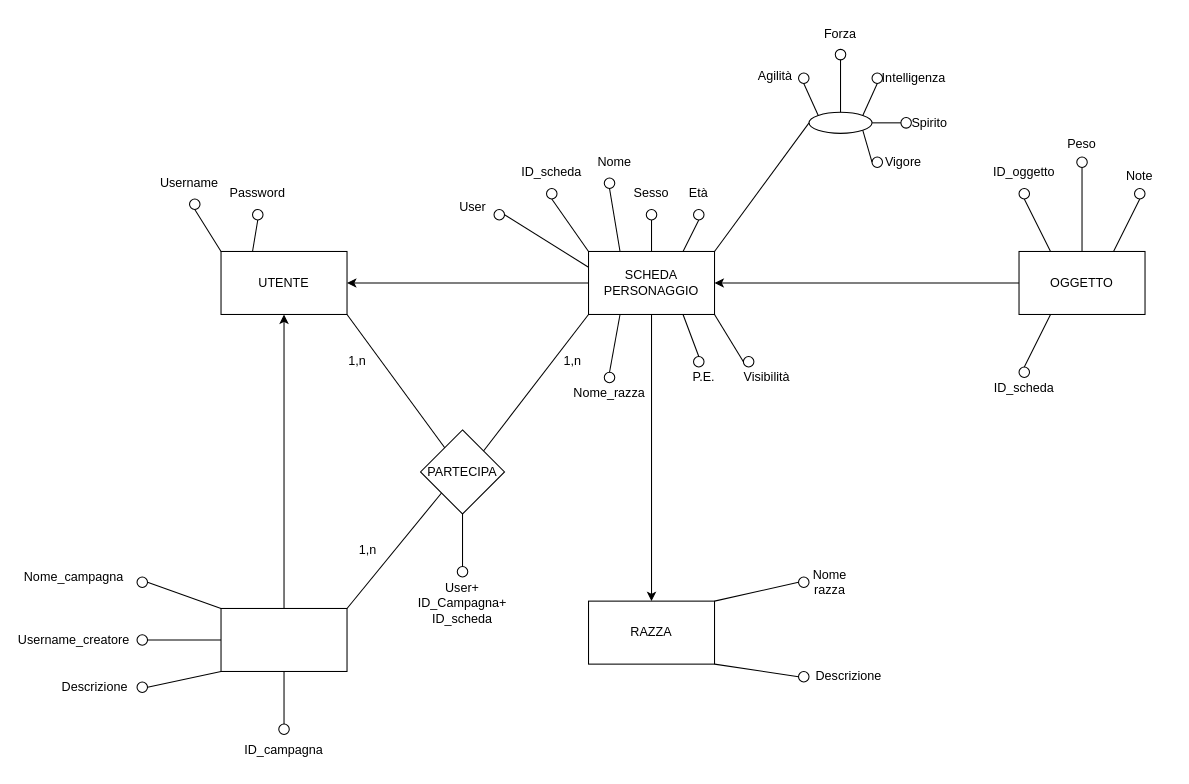
The diagram is 1189 pixels wide and 784 high, and some of its shapes have lost their labels. Each missing label, with the box of its shape:
Attributi: (808, 111, 872, 133)
CAMPAGNA: (220, 607, 347, 671)
